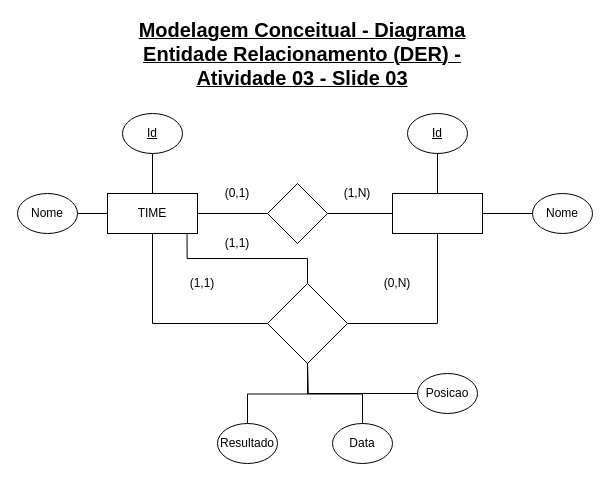
This 610x481 diagram has some shape labels left out. Here are the shapes that lost their labels. From the top down, the box of each, then its label:
(266, 182, 328, 244): TEM
(392, 192, 482, 234): JOGADOR
(266, 282, 348, 364): JOGA
